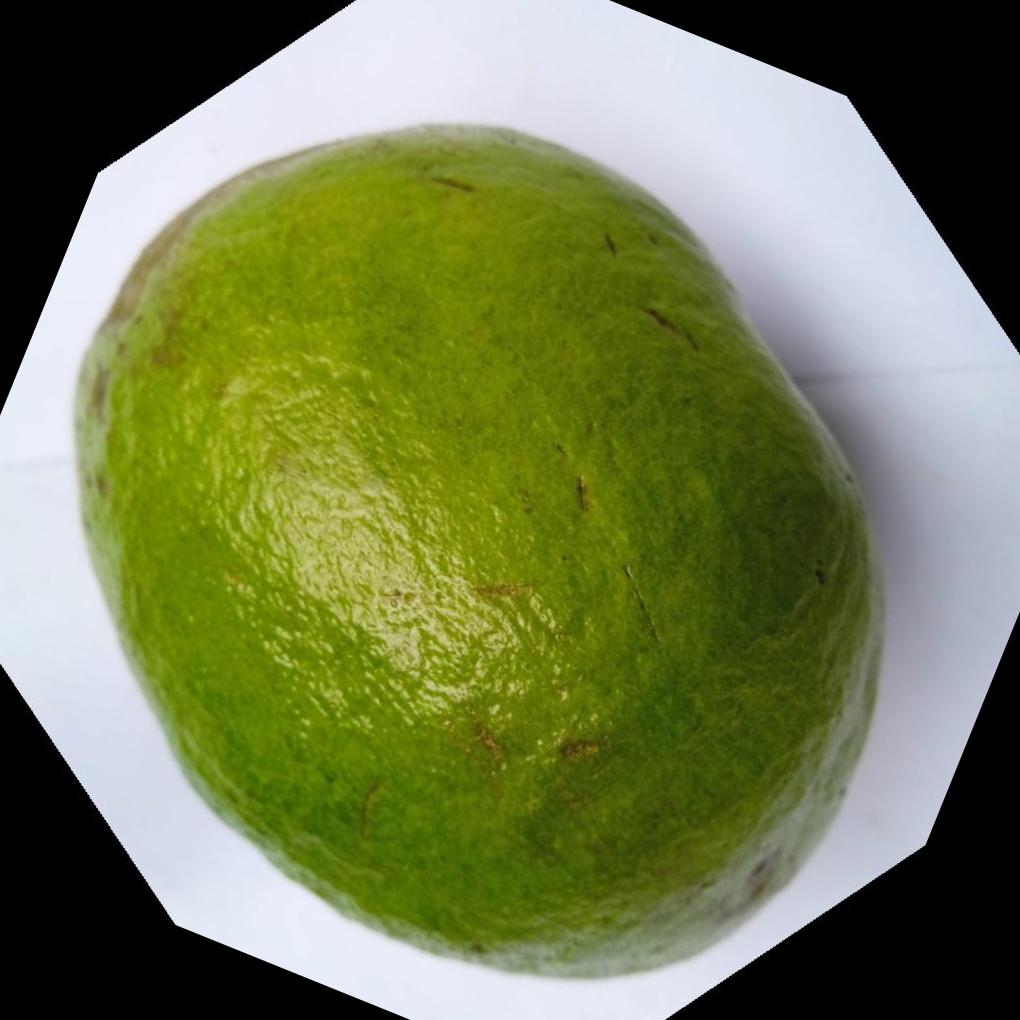FreshGuava: (67, 118, 883, 977)
